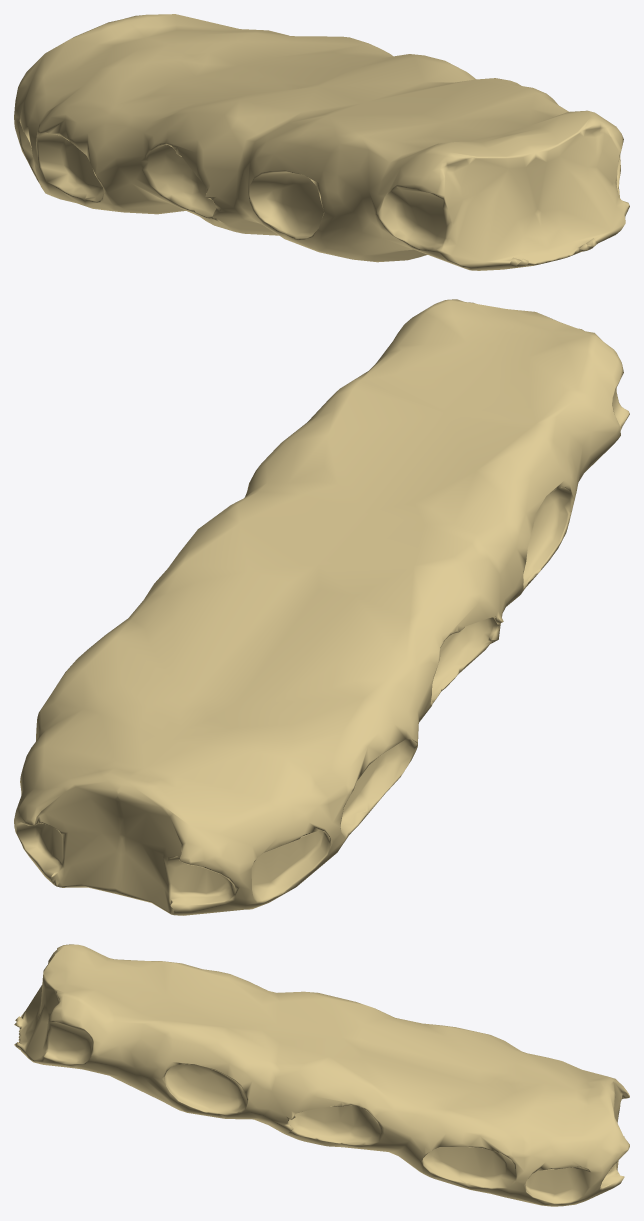
The picture shows the model from 3 angles, top to bottom: view 1: azimuth 30°, elevation 25°; view 2: azimuth 150°, elevation 25°; view 3: azimuth 270°, elevation 25°; orthographic projection. The views are drawn at different scales.
Parts seen in each view (by area): view 1: 胸骨体; view 2: 胸骨体; view 3: 胸骨体.
Boxes of the visible parts, box(x1,y1,x2,y2) form: 胸骨体: box(14, 14, 629, 270); 胸骨体: box(14, 299, 629, 915); 胸骨体: box(14, 944, 629, 1206).
Bounding box in the file's own units: 0.0727 × 0.0634 × 0.1759.
